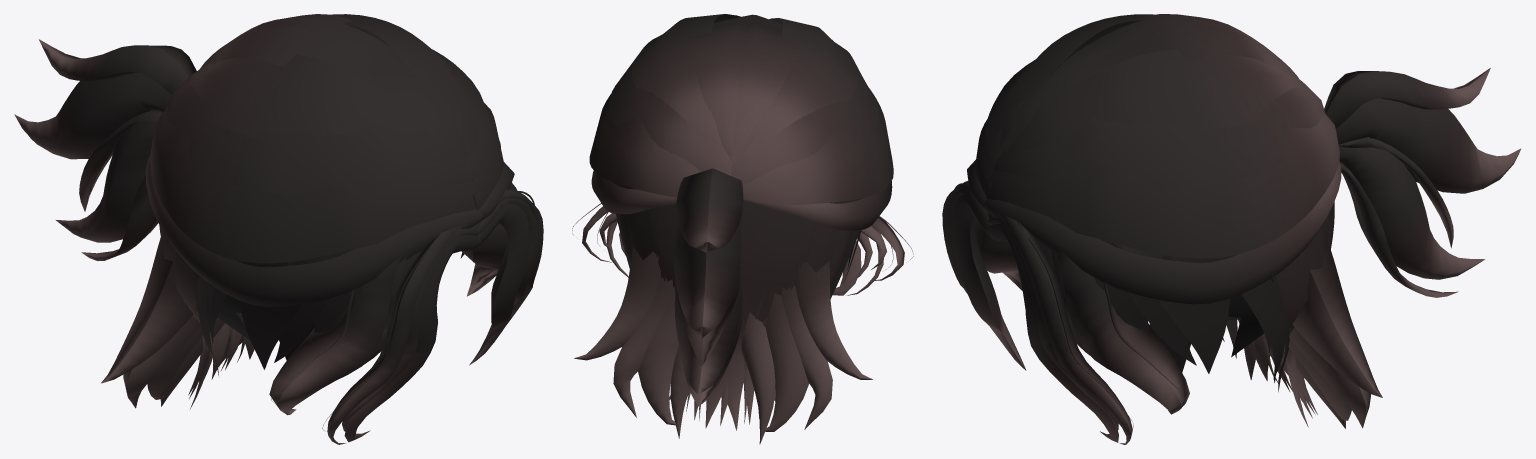
Rendered from Ondulado_0.glb.
3 renders of one model, left to right at view 1: azimuth 30°, elevation 25°; view 2: azimuth 150°, elevation 25°; view 3: azimuth 270°, elevation 25°, orthographic. The views are drawn at different scales.
Visible parts, largest first — view 1: Body; view 2: Body; view 3: Body.
Boxes of the visible parts, x1,y1,x2,y2 form: Body: (14, 14, 543, 444); Body: (572, 14, 913, 444); Body: (942, 14, 1521, 444).
Size of the model in its own units: 0.0401 by 0.042 by 0.0532.
Materials: 1 (1 with a texture image).
